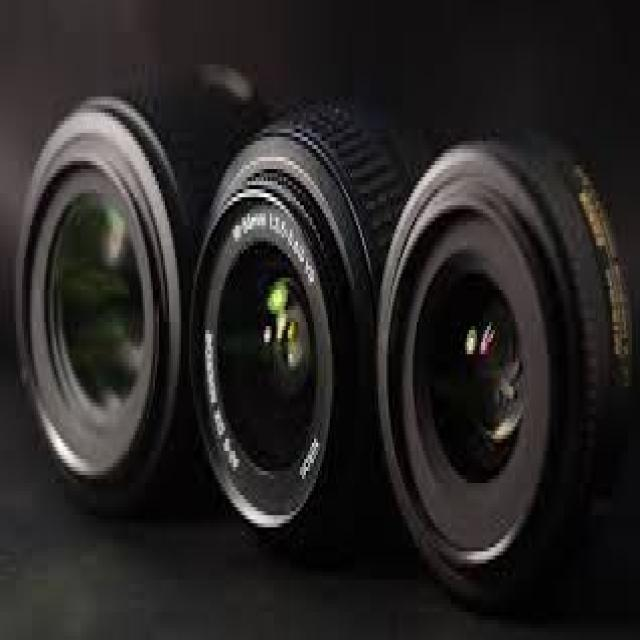hidden camera: (395, 231, 564, 545), (212, 228, 354, 491), (46, 185, 159, 428)
